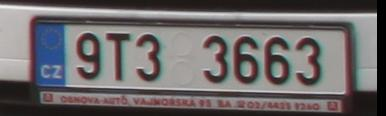3: (134, 31, 161, 83), (295, 36, 323, 86), (202, 33, 228, 83)
6: (262, 35, 291, 84), (233, 34, 258, 83)
9: (74, 31, 101, 80)
T: (103, 30, 131, 82)
